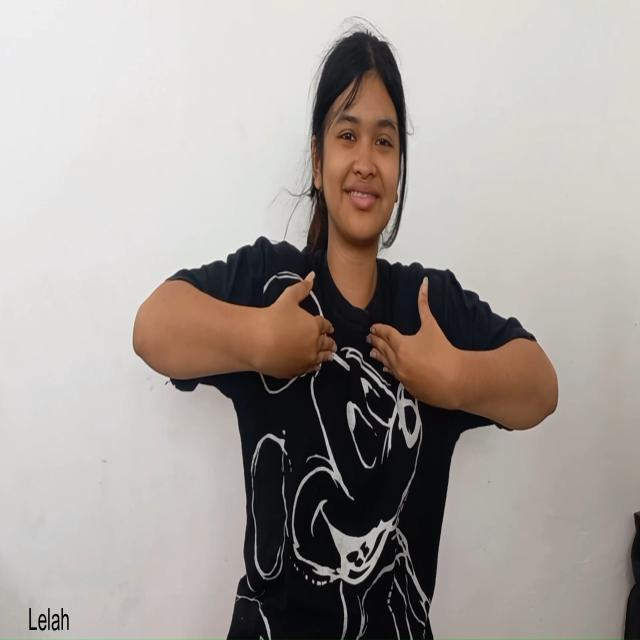Lelah -BISINDO-: (131, 268, 559, 433)
